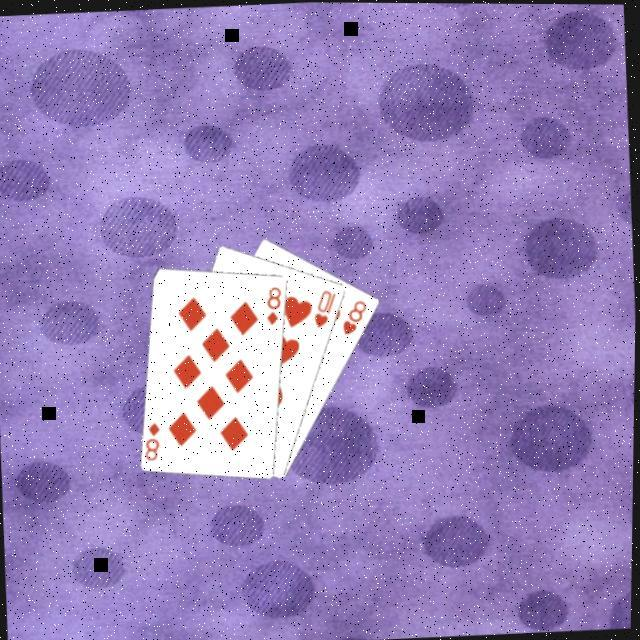10H: (312, 288, 343, 332)
8D: (264, 285, 287, 330), (144, 420, 167, 465)
8H: (341, 298, 373, 340)
